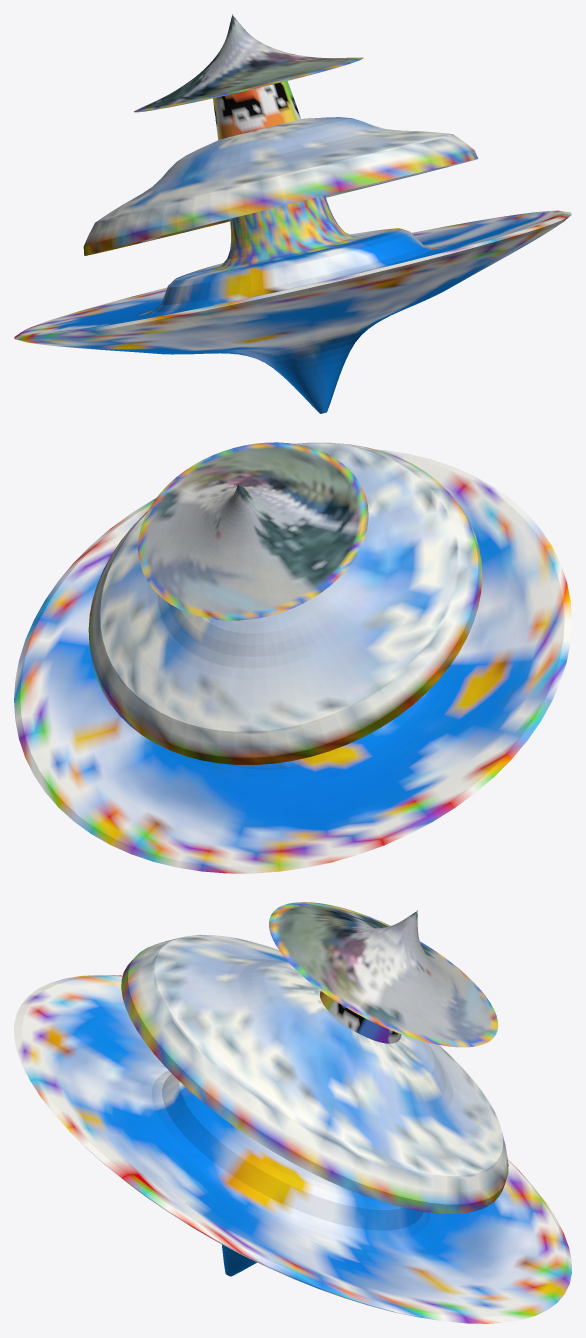
Rendered from fourthsalinatest.glb.
3 views of the same model, one above another, from view 1: azimuth 30°, elevation 25°; view 2: azimuth 150°, elevation 25°; view 3: azimuth 270°, elevation 25° (orthographic). The views are drawn at different scales.
Visible parts, largest first — view 1: Lathe 4, Lathe 3, Lathe, Lathe.001; view 2: Lathe 4, Lathe 3, Lathe; view 3: Lathe 4, Lathe 3, Lathe, Lathe.001.
Boxes of the visible parts, x1,y1,x2,y2 form: Lathe 4: (14,195,571,413); Lathe 3: (83,117,478,255); Lathe: (134,14,363,112); Lathe.001: (213,81,300,139); Lathe 4: (14,449,571,873); Lathe 3: (88,442,482,764); Lathe: (138,442,368,620); Lathe 4: (14,974,571,1323); Lathe 3: (121,934,508,1213); Lathe: (269,902,498,1047); Lathe.001: (320,991,401,1043).
Size of the model in its own units: 3.61 by 2.35 by 3.26.
